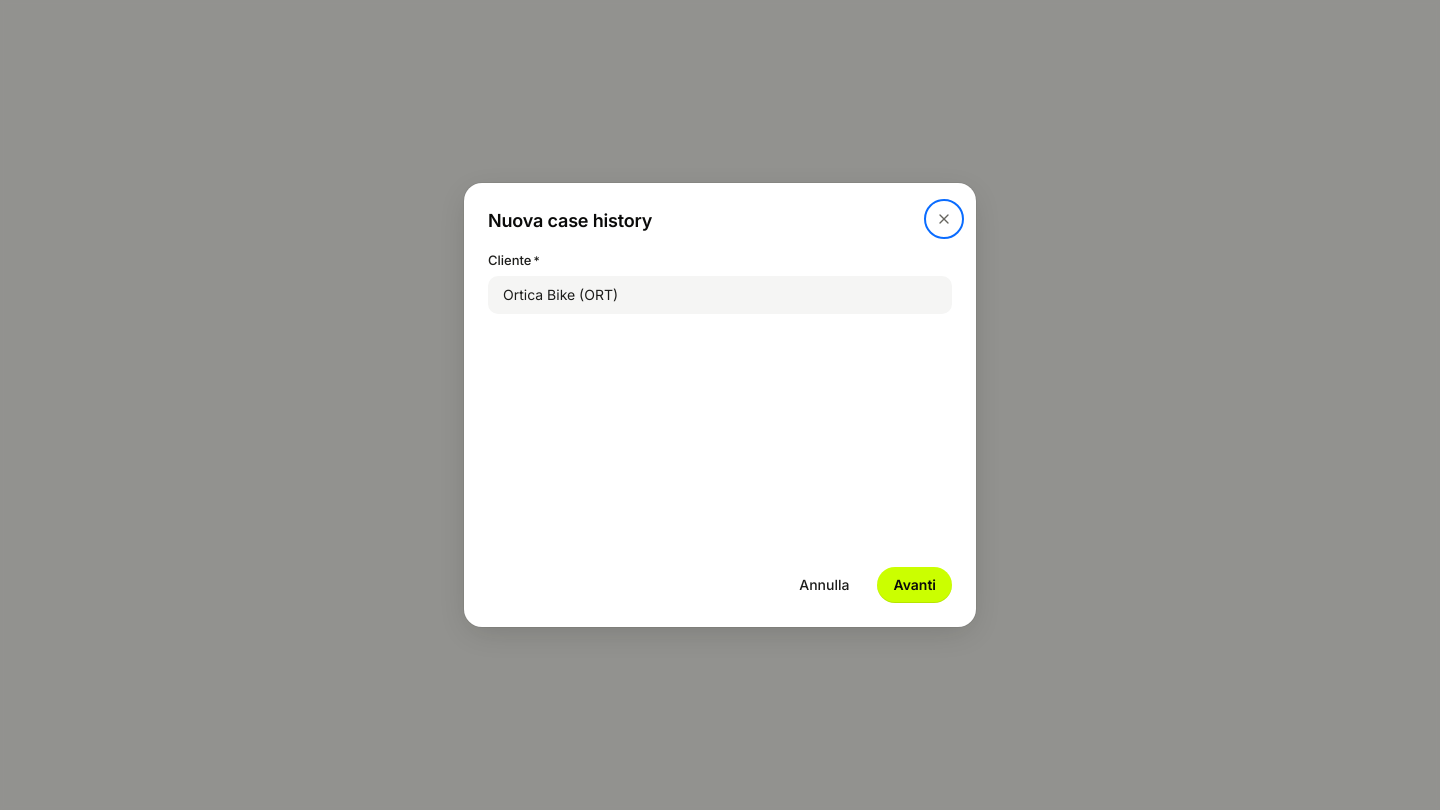
Scenario: NewCaseDialog › says so when the create fails, and stays
Click the button "Avanti" at point(915, 585), box [877,567,952,603]
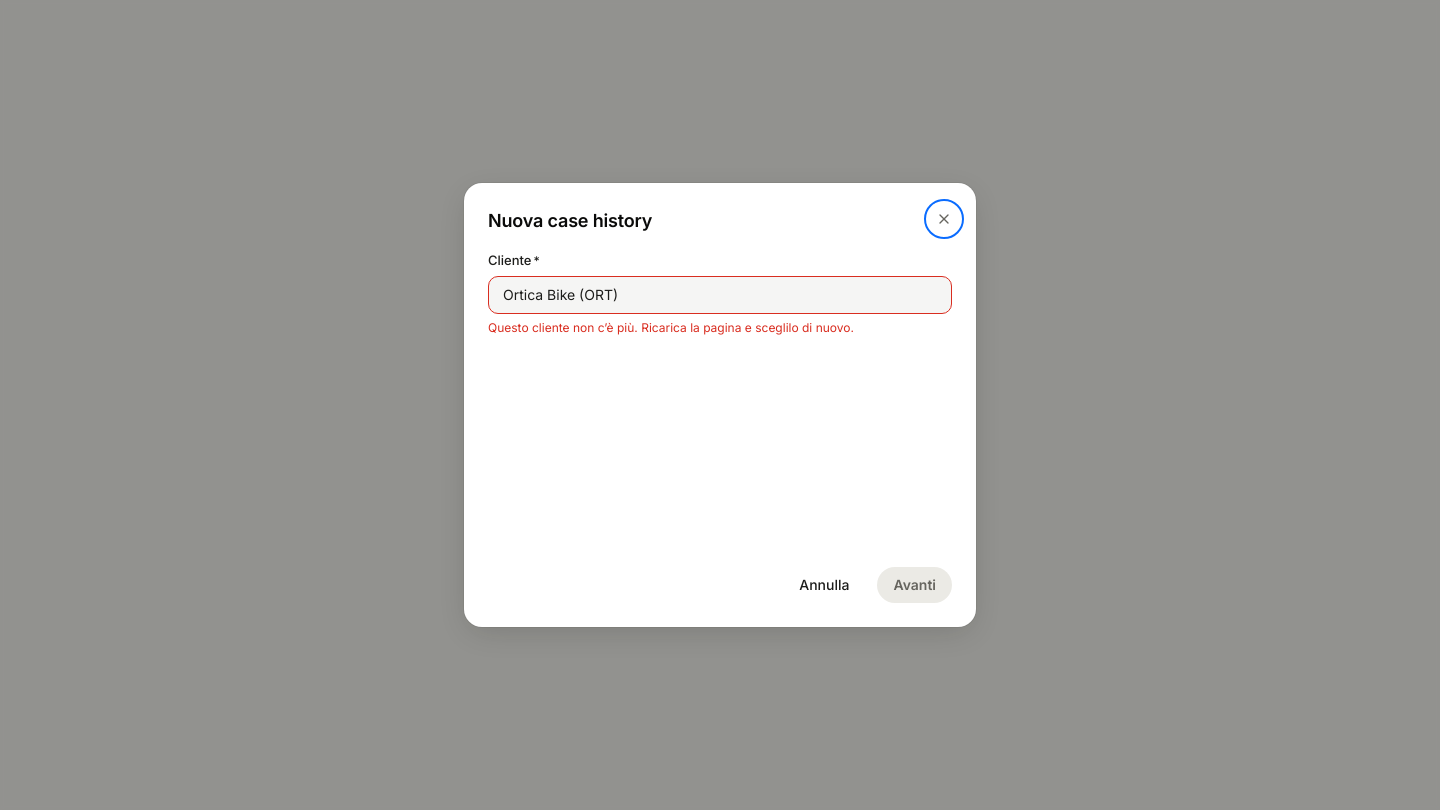
Expected: the text "Questo cliente non c’è più. Ricarica la pagina e sceglilo di nuovo." is shown, [488,320,854,335]
